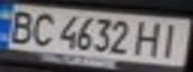2: (109, 16, 136, 56)
3: (90, 16, 115, 54)
4: (54, 12, 81, 51)
6: (75, 15, 96, 52)
B: (3, 7, 39, 45)
C: (27, 10, 60, 47)
H: (133, 19, 166, 57)
I: (154, 20, 187, 58)
